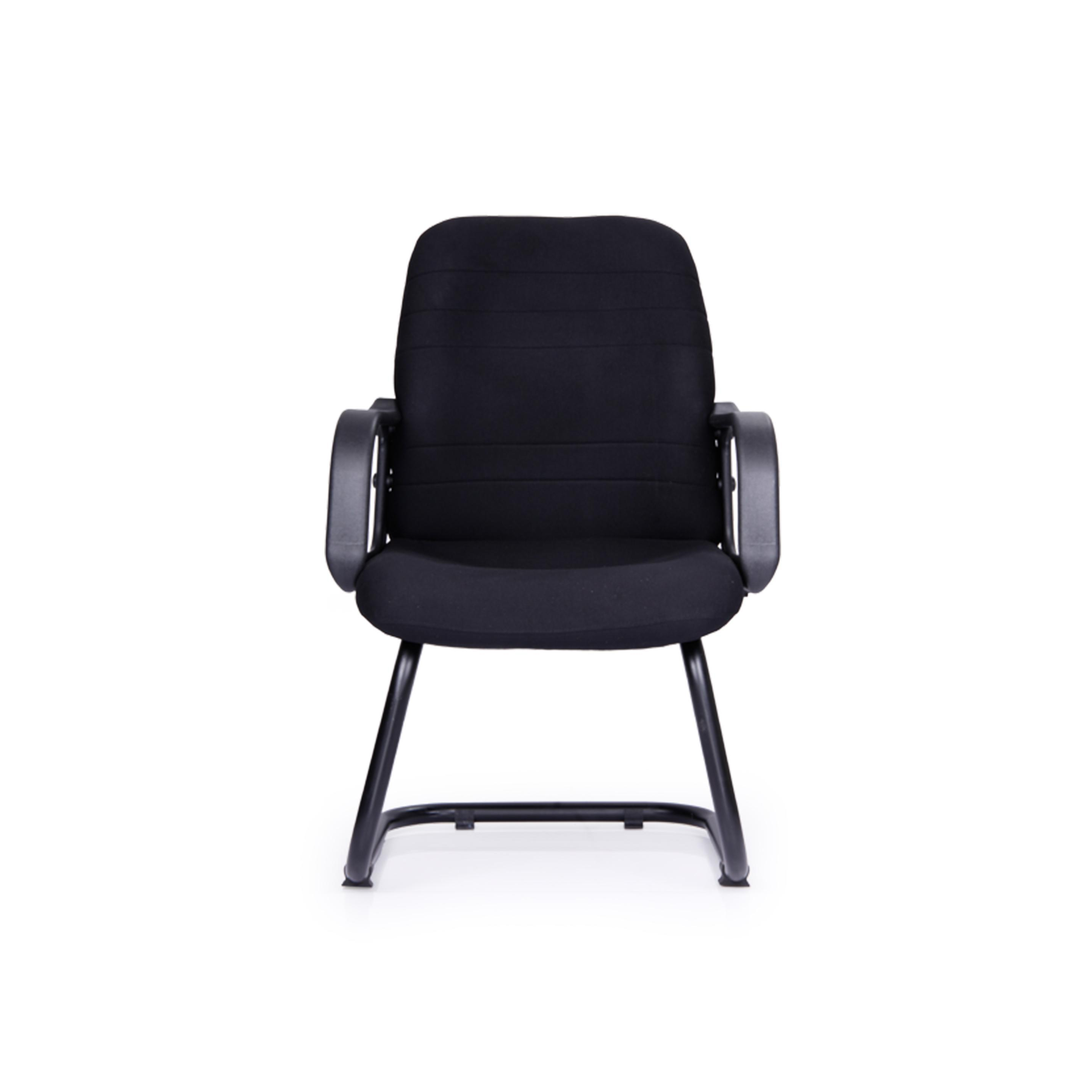chair: (310, 210, 828, 946)
